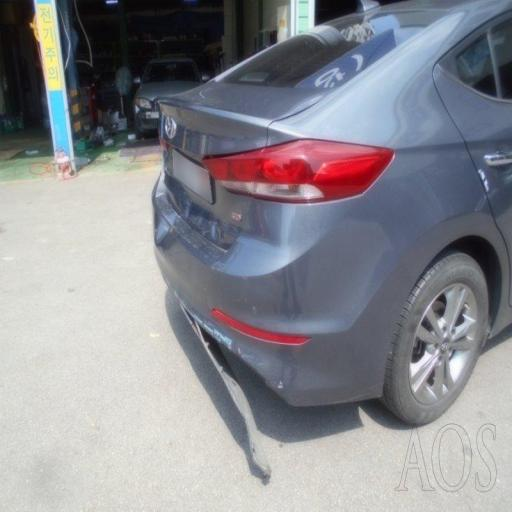broken: (166, 298, 336, 471)
dent: (141, 142, 375, 280)
